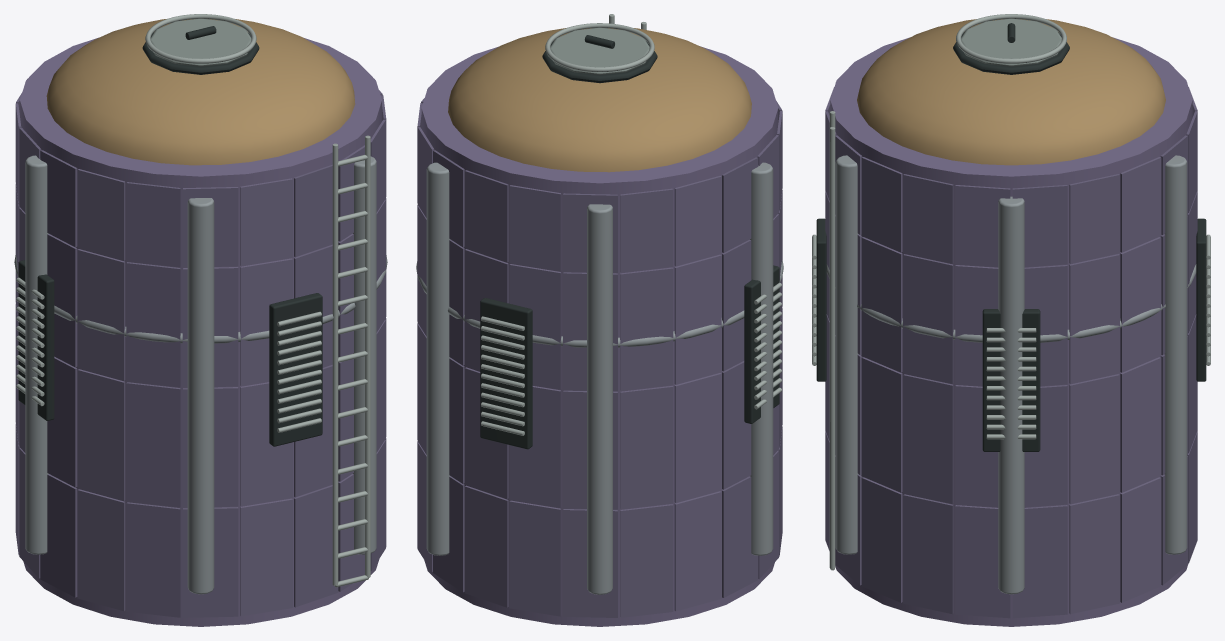
3 views of the same model, side by side, from view 1: azimuth 30°, elevation 25°; view 2: azimuth 150°, elevation 25°; view 3: azimuth 270°, elevation 25° (orthographic).
Visible parts, largest first — view 1: Repair drum replaceable skins, Workshop gold roof, Cylindrical tower, Workshop exterior rib.004, Workshop exterior rib.003, Workshop exterior rib.005, Repair drum heat exchanger recessed housing.003, Repair roof hoist hatch lid, Service ladder rail, Repair drum heat exchanger recessed housing.002, Service ladder rail.001, Tower seam (+2 smaller); view 2: Repair drum replaceable skins, Workshop gold roof, Cylindrical tower, Workshop exterior rib.002, Workshop exterior rib.001, Workshop exterior rib.003, Repair drum heat exchanger recessed housing.001, Repair roof hoist hatch lid, Repair drum heat exchanger recessed housing.002, Tower seam, Repair roof hoist hatch rim, Repair roof hoist hatch dark gasket; view 3: Repair drum replaceable skins, Workshop gold roof, Cylindrical tower, Workshop exterior rib, Workshop exterior rib.001, Workshop exterior rib.005, Repair drum heat exchanger recessed housing, Repair roof hoist hatch lid, Service ladder rail.001, Tower seam, Repair drum heat exchanger recessed housing.001, Repair drum heat exchanger recessed housing.003 (+2 smaller).
Boxes of the visible parts, bbox=[...] form: Repair drum replaceable skins: bbox=[15, 90, 386, 617]; Workshop gold roof: bbox=[46, 19, 355, 165]; Cylindrical tower: bbox=[20, 37, 381, 626]; Workshop exterior rib.004: bbox=[187, 198, 214, 594]; Workshop exterior rib.003: bbox=[25, 155, 48, 554]; Workshop exterior rib.005: bbox=[353, 156, 376, 554]; Repair drum heat exchanger recessed housing.003: bbox=[269, 293, 322, 446]; Repair roof hoist hatch lid: bbox=[150, 18, 251, 66]; Service ladder rail: bbox=[332, 143, 338, 585]; Repair drum heat exchanger recessed housing.002: bbox=[18, 260, 54, 420]; Service ladder rail.001: bbox=[365, 135, 370, 577]; Tower seam: bbox=[14, 255, 387, 343]; Repair drum replaceable skins: bbox=[417, 98, 782, 617]; Workshop gold roof: bbox=[448, 28, 751, 172]; Cylindrical tower: bbox=[421, 46, 778, 626]; Workshop exterior rib.002: bbox=[587, 204, 612, 594]; Workshop exterior rib.001: bbox=[426, 162, 450, 555]; Workshop exterior rib.003: bbox=[750, 162, 773, 555]; Repair drum heat exchanger recessed housing.001: bbox=[480, 298, 532, 449]; Repair roof hoist hatch lid: bbox=[550, 27, 649, 74]; Repair drum heat exchanger recessed housing.002: bbox=[744, 265, 779, 423]; Tower seam: bbox=[416, 260, 783, 347]; Repair roof hoist hatch rim: bbox=[545, 23, 654, 71]; Repair roof hoist hatch dark gasket: bbox=[542, 41, 657, 83]; Repair drum replaceable skins: bbox=[825, 87, 1197, 618]; Workshop gold roof: bbox=[857, 19, 1165, 165]; Cylindrical tower: bbox=[830, 37, 1192, 626]; Workshop exterior rib: bbox=[998, 196, 1024, 594]; Workshop exterior rib.001: bbox=[1164, 155, 1187, 554]; Workshop exterior rib.005: bbox=[835, 155, 858, 554]; Repair drum heat exchanger recessed housing: bbox=[982, 309, 1040, 451]; Repair roof hoist hatch lid: bbox=[961, 18, 1061, 66]; Service ladder rail.001: bbox=[829, 127, 835, 569]; Tower seam: bbox=[826, 264, 1196, 342]; Repair drum heat exchanger recessed housing.001: bbox=[1196, 218, 1206, 381]; Repair drum heat exchanger recessed housing.003: bbox=[816, 218, 826, 381].
Size of the model in its own units: 1.82 by 2.6 by 1.81.
